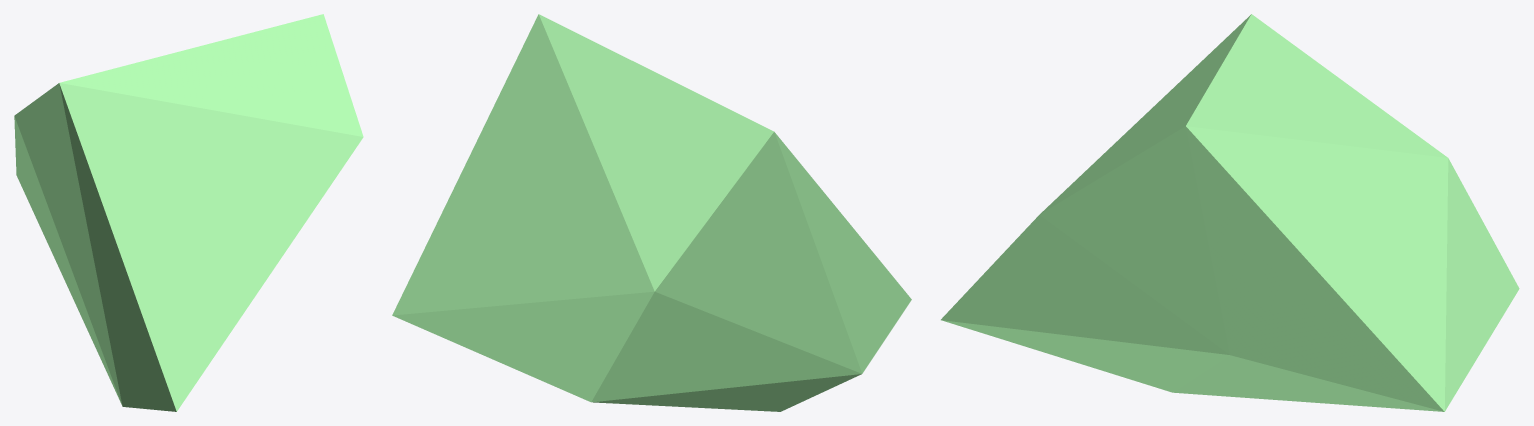
Rendered from dvkr_robot_L3_dx_respondable_TOOL2_coll_14.dae.
3 views of the same model, side by side, from view 1: azimuth 30°, elevation 25°; view 2: azimuth 150°, elevation 25°; view 3: azimuth 270°, elevation 25° (orthographic). The views are drawn at different scales.
Visible parts, largest first — view 1: Node_0000023514CD64F0; view 2: Node_0000023514CD64F0; view 3: Node_0000023514CD64F0.
Part boxes in pixels (left/top/right/bottom): Node_0000023514CD64F0: left=14, top=14, right=363, bottom=411; Node_0000023514CD64F0: left=392, top=14, right=911, bottom=411; Node_0000023514CD64F0: left=941, top=14, right=1519, bottom=411.
Size of the model in its own units: 0.00227 by 0.00243 by 0.00318.
